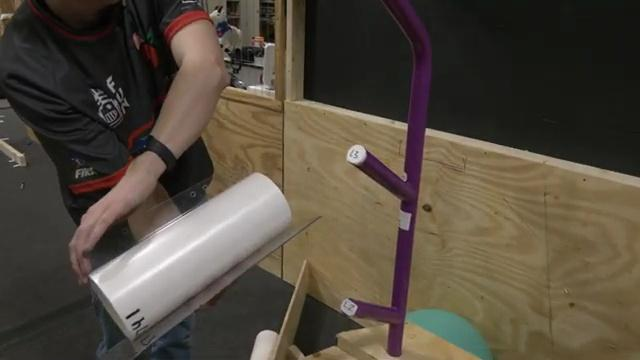CORAL: (86, 170, 293, 346)
